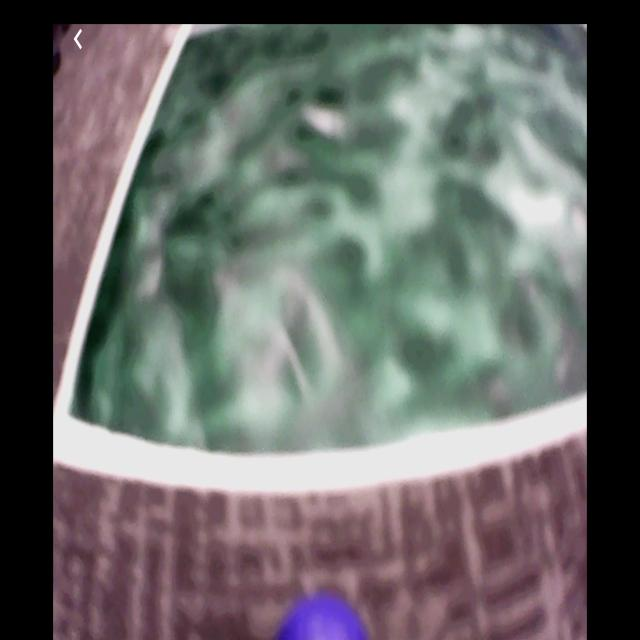ball: (274, 597, 371, 640)
